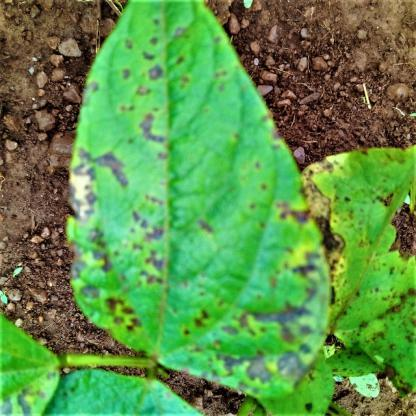Beans_Angular_LeafSpot: (58, 9, 338, 392), (309, 148, 414, 399), (0, 314, 50, 415)
